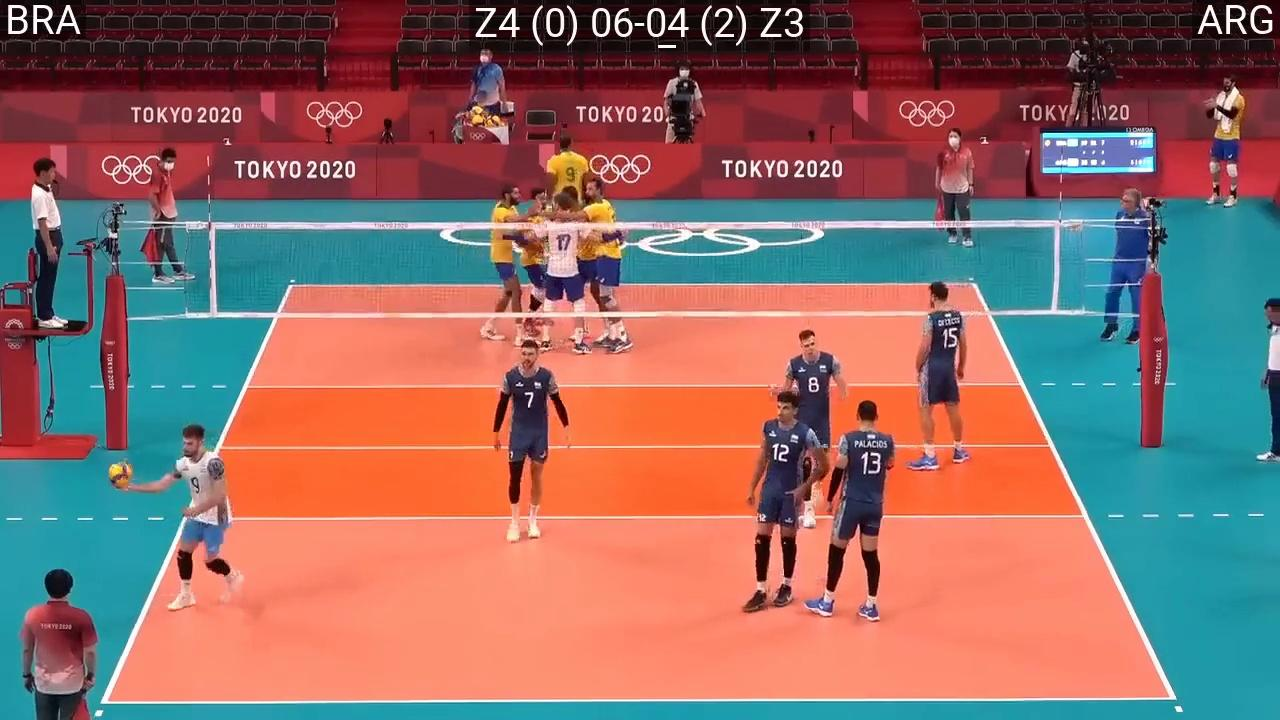ball: (107, 461, 134, 488)
